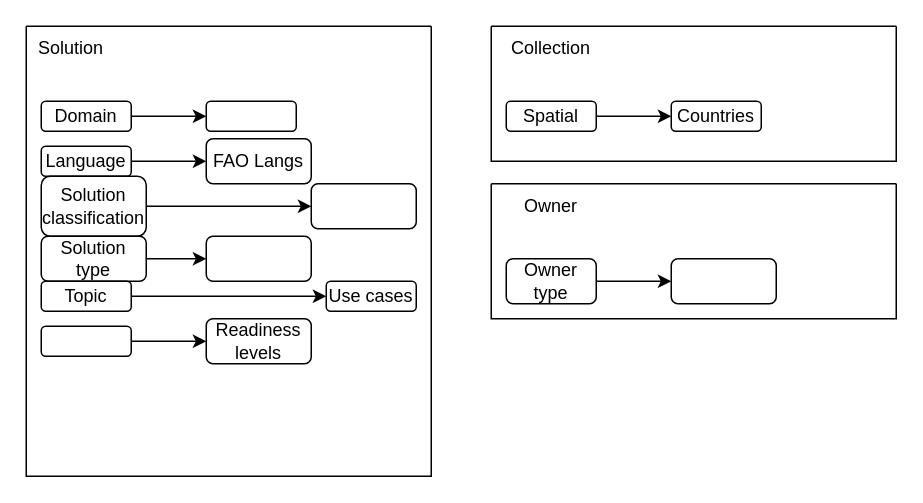
Some shapes in this 923 by 503 pixel diagram are drawn without their labels. The centre of each missing label's shape, as x and y in pixels:
"Forms of Innovation" goes at (x=363, y=205).
"Organization types" goes at (x=723, y=280).
"Status" goes at (x=85, y=340).
"Themes" goes at (x=250, y=115).
"Types of Innovation" goes at (x=258, y=258).
